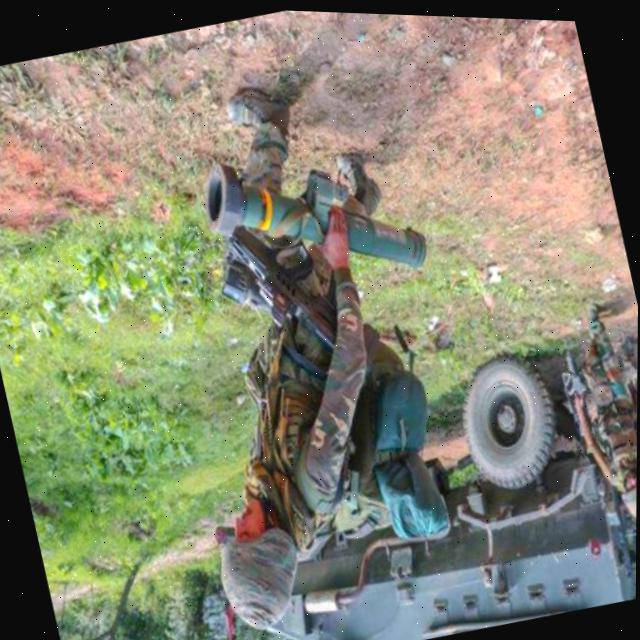rocket: (187, 118, 444, 324)
